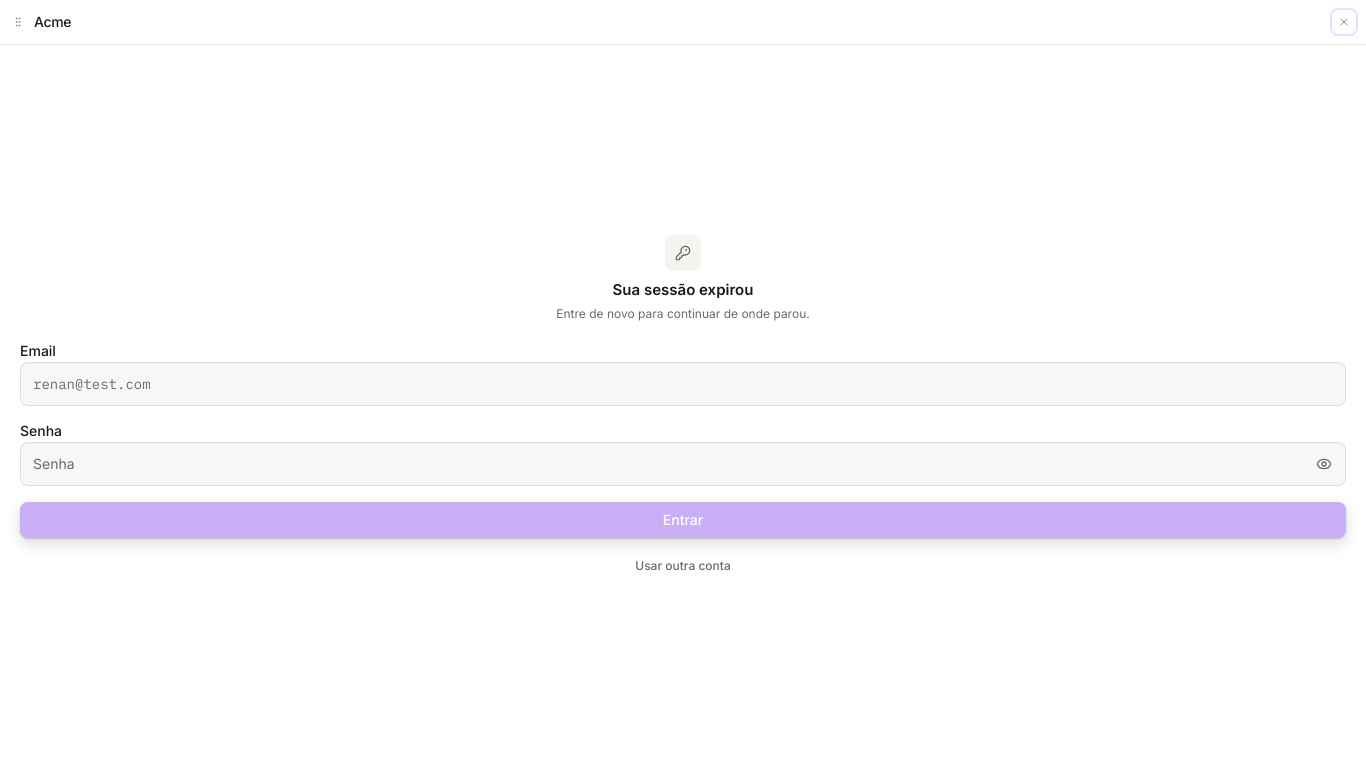
Test: IslandPanel › KAN-36 erro do reauth aparece no formulário
The width and height of the screenshot is (1366, 768).
Type "errada" into the password field labelled "Senha" at (683, 464), box [20,442,1346,486]
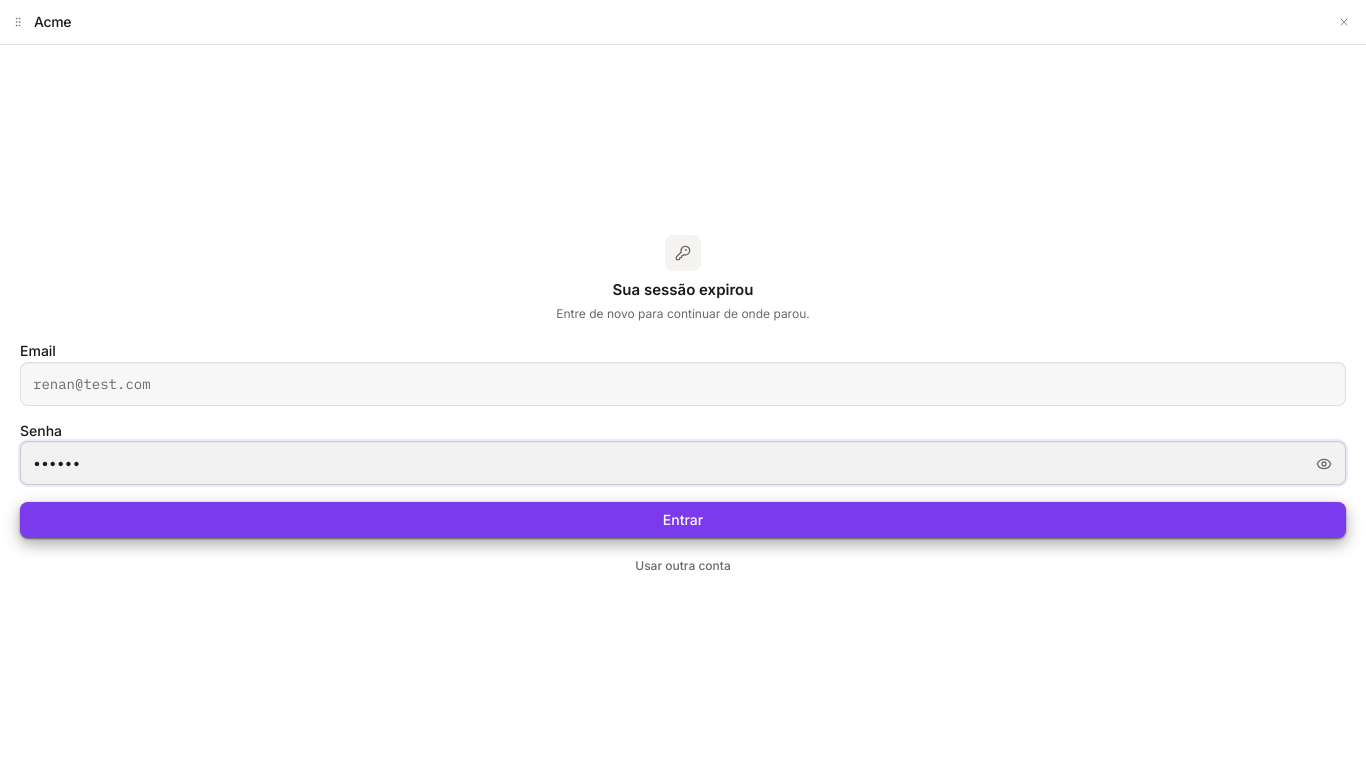
Click the button "Entrar" at (683, 520), box [20,502,1346,538]
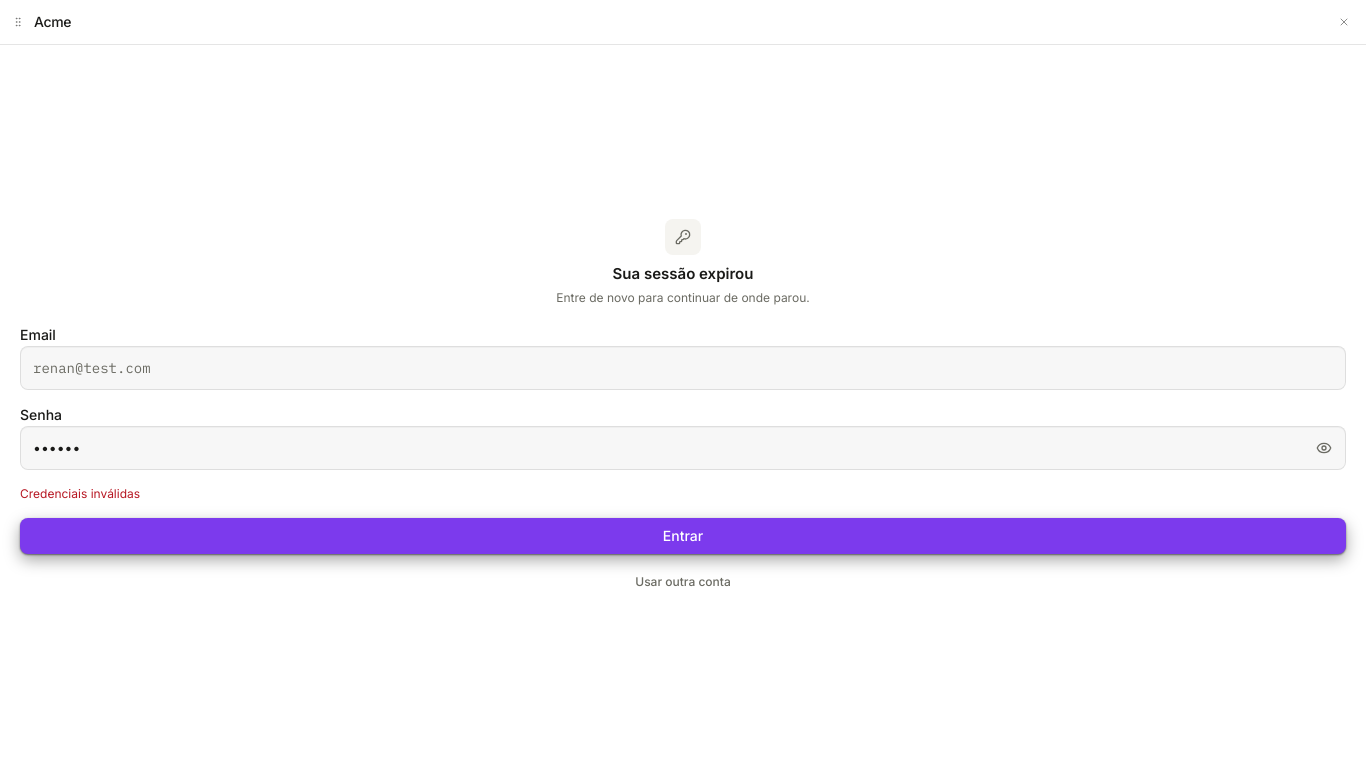
Check: the message reads "Credenciais inválidas", box [20,486,140,501]
